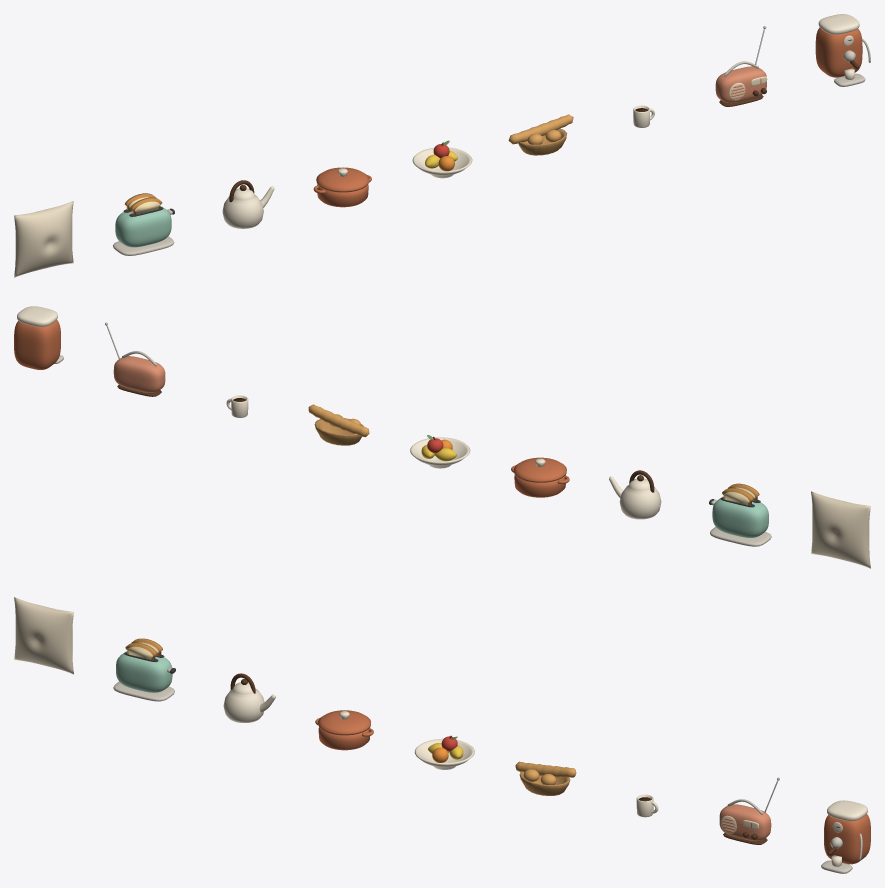
File: props.glb
3 views of the same model, one above another, from view 1: azimuth 30°, elevation 25°; view 2: azimuth 150°, elevation 25°; view 3: azimuth 330°, elevation 25° (orthographic).
Parts seen in each view (by area): view 1: Prop_Pillow, Prop_CoffeeMachine, Prop_Toaster, Prop_Radio, Prop_DutchOven, Prop_Kettle, Prop_BreadBasket, Prop_FruitBowl; view 2: Prop_Pillow, Prop_Toaster, Prop_CoffeeMachine, Prop_Radio, Prop_DutchOven, Prop_Kettle, Prop_BreadBasket, Prop_FruitBowl; view 3: Prop_Pillow, Prop_Toaster, Prop_CoffeeMachine, Prop_Radio, Prop_DutchOven, Prop_Kettle, Prop_BreadBasket, Prop_FruitBowl.
Part boxes in pixels (box(x1,y1,x2,y2)): Prop_Pillow: box(14, 201, 73, 277); Prop_CoffeeMachine: box(815, 14, 870, 86); Prop_Toaster: box(113, 193, 174, 255); Prop_Radio: box(715, 26, 767, 106); Prop_DutchOven: box(313, 167, 371, 207); Prop_Kettle: box(222, 180, 274, 228); Prop_BreadBasket: box(508, 114, 573, 155); Prop_FruitBowl: box(412, 140, 472, 178); Prop_Pillow: box(811, 491, 870, 568); Prop_Toaster: box(709, 483, 771, 546); Prop_CoffeeMachine: box(14, 306, 63, 369); Prop_Radio: box(105, 322, 165, 396); Prop_DutchOven: box(511, 457, 569, 497); Prop_Kettle: box(609, 470, 661, 519); Prop_BreadBasket: box(308, 404, 369, 445); Prop_FruitBowl: box(410, 435, 470, 468); Prop_Pillow: box(14, 597, 73, 674); Prop_Toaster: box(113, 638, 175, 701); Prop_CoffeeMachine: box(821, 800, 870, 873); Prop_Radio: box(719, 777, 779, 844); Prop_DutchOven: box(315, 710, 373, 750); Prop_Kettle: box(223, 673, 275, 722); Prop_BreadBasket: box(515, 761, 576, 795); Prop_FruitBowl: box(414, 735, 474, 769).
Bounding box in the file's own units: 5.12 × 0.37 × 0.3347.
